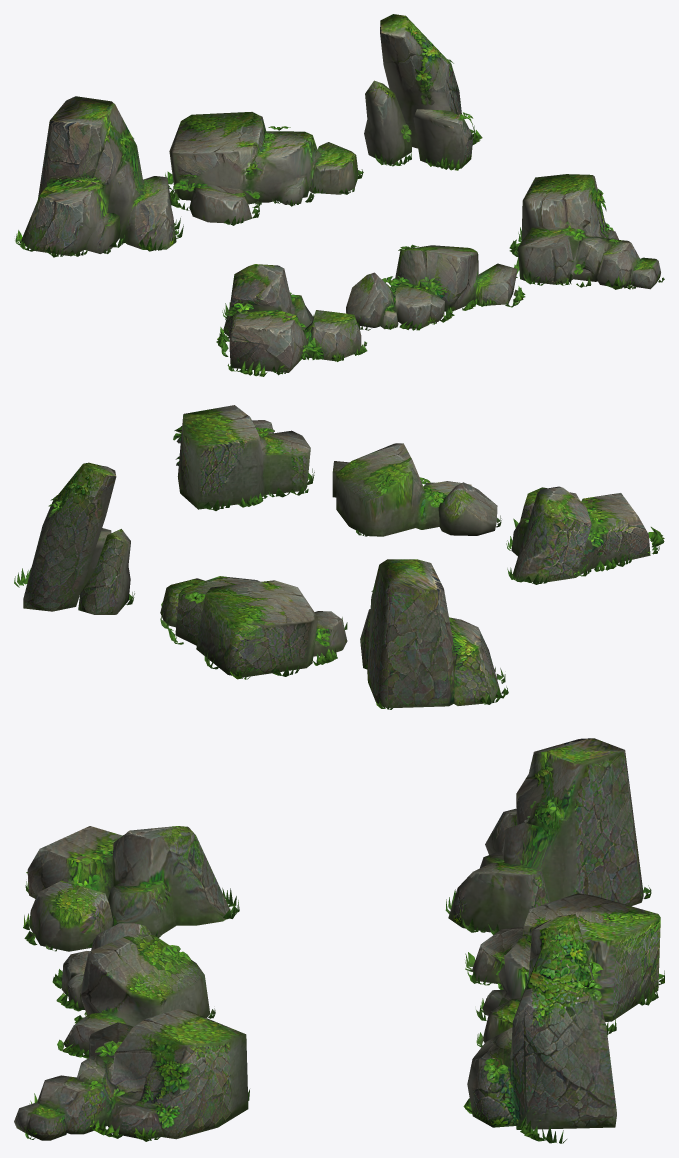
Rendered from rock_formation_source.glb.
3 views of the same model, one above another, from view 1: azimuth 30°, elevation 25°; view 2: azimuth 150°, elevation 25°; view 3: azimuth 270°, elevation 25° (orthographic). The views are drawn at different scales.
Parts seen in each view (by area): view 1: tripo_node_407e3096-1a65-49fd-a30b-e33d7923125b; view 2: tripo_node_407e3096-1a65-49fd-a30b-e33d7923125b; view 3: tripo_node_407e3096-1a65-49fd-a30b-e33d7923125b.
Boxes of the visible parts, x1,y1,x2,y2 form: tripo_node_407e3096-1a65-49fd-a30b-e33d7923125b: (15,14,664,376); tripo_node_407e3096-1a65-49fd-a30b-e33d7923125b: (14,405,664,709); tripo_node_407e3096-1a65-49fd-a30b-e33d7923125b: (14,738,664,1143).
Size of the model in its own units: 0.9995 by 0.2769 by 0.9165.
Materials: 1 (1 with a texture image).
